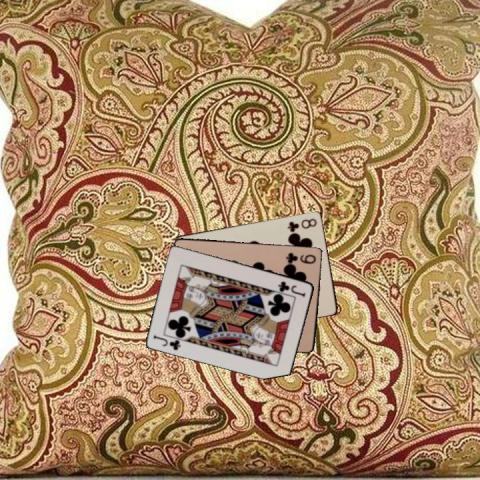8c: (285, 215, 318, 232)
9c: (284, 249, 318, 264)
Jc: (150, 331, 182, 352), (275, 278, 307, 298)
